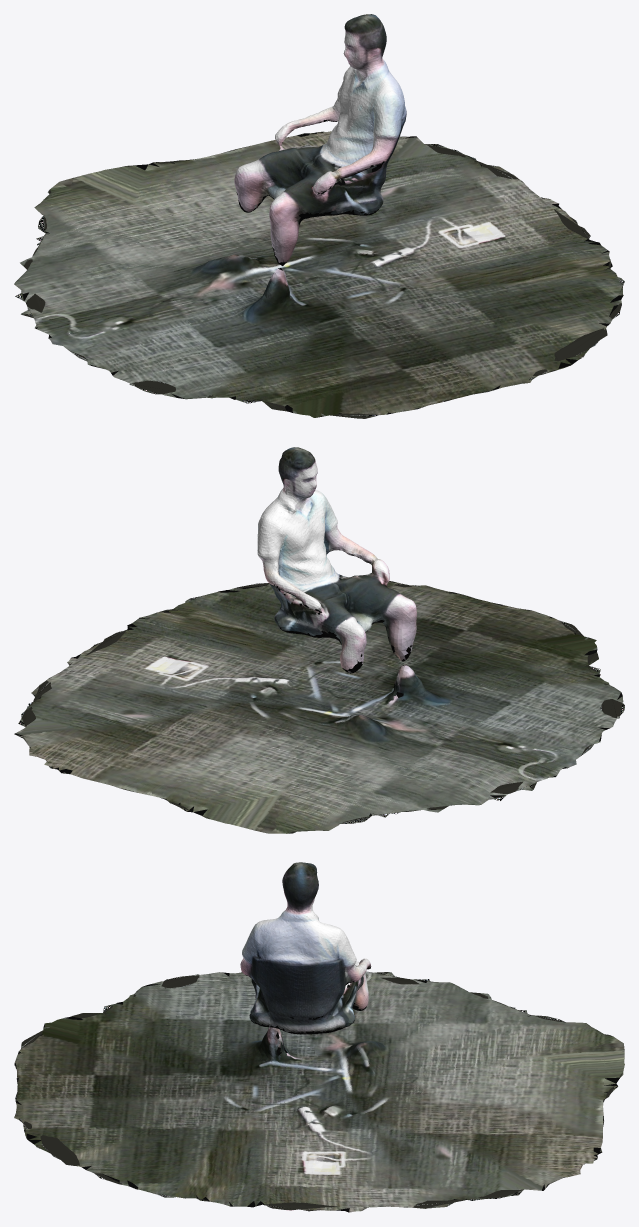
File: Enzo-at-engineering-east2.glb
3 views of the same model, one above another, from view 1: azimuth 30°, elevation 25°; view 2: azimuth 150°, elevation 25°; view 3: azimuth 270°, elevation 25° (orthographic). The views are drawn at different scales.
Bounding box in the file's own units: 2.75 × 1.3 × 2.91.
1 material, 1 textured.
